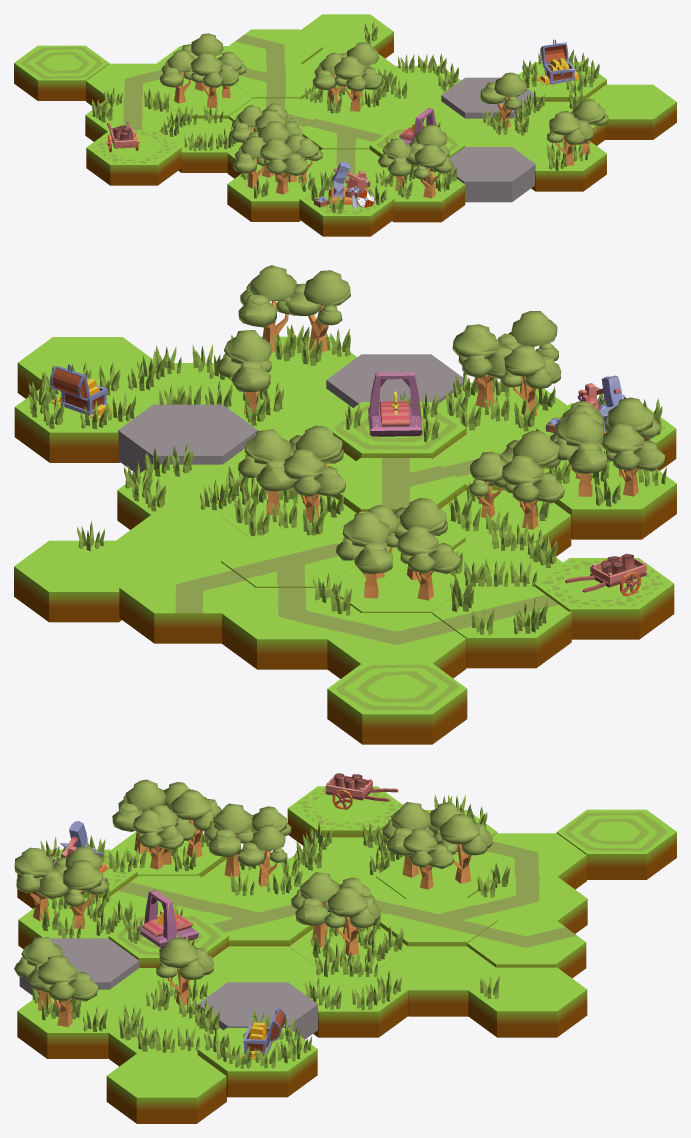
Rendered from location_1.fbx.
3 renders of one model, top to bottom at view 1: azimuth 30°, elevation 25°; view 2: azimuth 150°, elevation 25°; view 3: azimuth 270°, elevation 25°, orthographic. The views are drawn at different scales.
Visible parts, largest first — view 1: Cylinder.088, Cylinder.091, Cylinder.169, Cylinder.187, Cylinder.097, Cylinder.013, Cylinder.070, Cylinder.071, Cylinder.069, Cylinder.046, Cylinder.043, Cylinder.001 (+40 smaller); view 2: Cylinder.043, Cylinder.046, Cylinder.090, Cylinder.187, Cylinder.093, Cylinder.096, Cylinder.087, Cylinder.091, Cylinder.070, Cylinder.100, Cylinder.001, Cylinder.069 (+40 smaller); view 3: Cylinder.169, Cylinder.046, Cylinder.045, Cylinder.187, Cylinder.039, Cylinder.043, Cylinder.097, Cylinder.100, Cylinder.001, Cylinder.090, Cylinder.096, Cylinder.087 (+41 smaller).
Part boxes in pixels (x1=…): Cylinder.088: x1=449, y1=147, x2=535, y2=202; Cylinder.091: x1=86, y1=130, x2=181, y2=185; Cylinder.169: x1=585, y1=84, x2=676, y2=139; Cylinder.187: x1=14, y1=45, x2=109, y2=100; Cylinder.097: x1=517, y1=136, x2=606, y2=191; Cylinder.013: x1=299, y1=181, x2=394, y2=236; Cylinder.070: x1=227, y1=166, x2=320, y2=221; Cylinder.071: x1=372, y1=167, x2=465, y2=222; Cylinder.069: x1=301, y1=113, x2=391, y2=150; Cylinder.046: x1=300, y1=14, x2=393, y2=58; Cylinder.043: x1=228, y1=29, x2=322, y2=63; Cylinder.001: x1=235, y1=62, x2=316, y2=99; Cylinder.043: x1=119, y1=562, x2=256, y2=643; Cylinder.046: x1=14, y1=540, x2=148, y2=622; Cylinder.090: x1=222, y1=588, x2=361, y2=669; Cylinder.187: x1=327, y1=663, x2=467, y2=744; Cylinder.093: x1=431, y1=586, x2=571, y2=668; Cylinder.096: x1=118, y1=404, x2=257, y2=472; Cylinder.087: x1=327, y1=613, x2=466, y2=678; Cylinder.091: x1=534, y1=558, x2=674, y2=639; Cylinder.070: x1=554, y1=461, x2=676, y2=539; Cylinder.100: x1=14, y1=381, x2=151, y2=462; Cylinder.001: x1=221, y1=535, x2=355, y2=587; Cylinder.069: x1=334, y1=458, x2=465, y2=513; Cylinder.169: x1=106, y1=1053, x2=226, y2=1123; Cylinder.046: x1=468, y1=967, x2=587, y2=1037; Cylinder.045: x1=379, y1=946, x2=498, y2=1016; Cylinder.187: x1=556, y1=809, x2=676, y2=879; Cylinder.039: x1=293, y1=968, x2=408, y2=1037; Cylinder.043: x1=467, y1=920, x2=586, y2=978; Cylinder.097: x1=17, y1=989, x2=136, y2=1058; Cylinder.100: x1=197, y1=1027, x2=317, y2=1097; Cylinder.001: x1=380, y1=898, x2=497, y2=946; Cylinder.090: x1=468, y1=876, x2=587, y2=933; Cylinder.096: x1=197, y1=982, x2=317, y2=1039; Cylinder.087: x1=471, y1=833, x2=586, y2=889.
Size of the model in its own units: 14.53 by 13.36 by 2.16.
6 materials, 6 textured.
